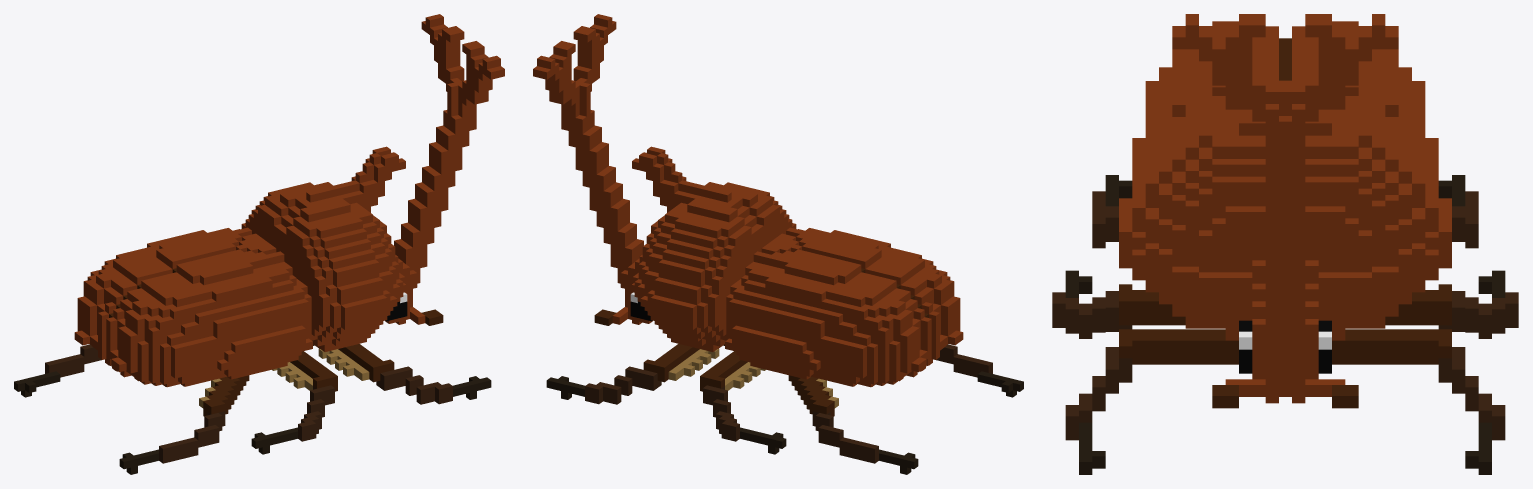
The model's file is mushi.obj.
3 views of the same model, side by side, from view 1: azimuth 30°, elevation 25°; view 2: azimuth 150°, elevation 25°; view 3: azimuth 270°, elevation 25° (orthographic). The views are drawn at different scales.
Visible parts, largest first — view 1: Horn-α; view 2: Horn-α; view 3: Horn-α.
Boxes of the visible parts, box(x1,y1,x2,y2) form: Horn-α: box(14, 14, 504, 474); Horn-α: box(533, 14, 1023, 474); Horn-α: box(1052, 14, 1518, 474).
Bounding box in the file's own units: 57 × 41 × 35.
